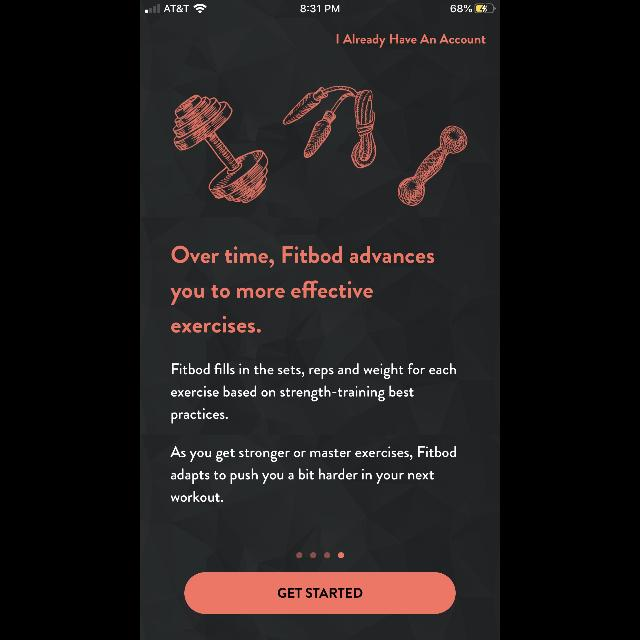image: (172, 86, 468, 206)
pageindicator: (296, 552, 344, 558)
text: (170, 245, 434, 333), (172, 362, 456, 423), (170, 446, 456, 502), (336, 34, 486, 48)
textbutton: (184, 572, 456, 614)
uppertaskbar: (140, 0, 500, 14)
